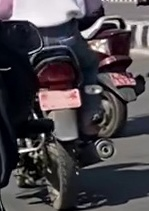license_plate: (39, 88, 82, 111)
